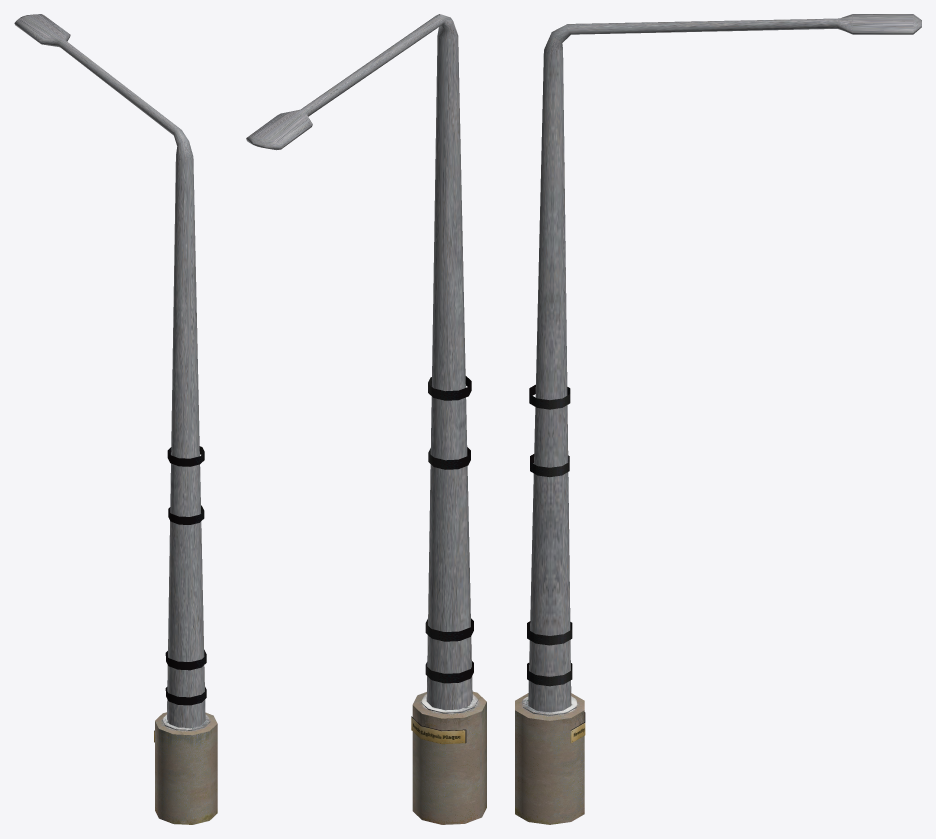
File: UDC_Lightpole.obj
The picture shows the model from 3 angles, left to right: view 1: azimuth 30°, elevation 25°; view 2: azimuth 150°, elevation 25°; view 3: azimuth 270°, elevation 25°; orthographic projection. The views are drawn at different scales.
Visible parts, largest first — view 1: UDC_Lightpole; view 2: UDC_Lightpole; view 3: UDC_Lightpole.
Boxes of the visible parts, x1=… form: UDC_Lightpole: x1=14, y1=14, x2=217, y2=824; UDC_Lightpole: x1=246, y1=14, x2=486, y2=824; UDC_Lightpole: x1=515, y1=14, x2=921, y2=824.
Bounding box in the file's own units: 0.1901 × 2.27 × 1.06.
1 material, 1 textured.
